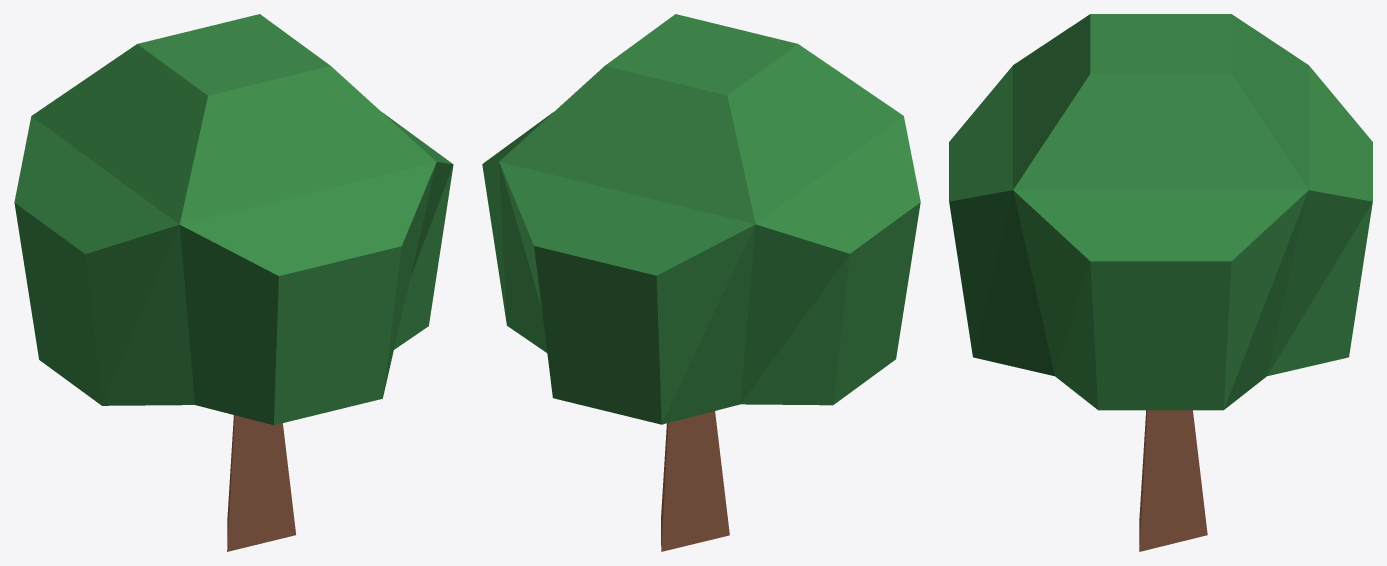
Rendered from tree1.fbx.
3 views of the same model, side by side, from view 1: azimuth 30°, elevation 25°; view 2: azimuth 150°, elevation 25°; view 3: azimuth 270°, elevation 25° (orthographic).
Parts seen in each view (by area): view 1: Cube; view 2: Cube; view 3: Cube.
Part boxes in pixels (<box>): Cube: <box>14,14,453,551</box>; Cube: <box>482,14,920,551</box>; Cube: <box>949,14,1372,551</box>.
Bounding box in the file's own units: 149 × 188 × 149.
